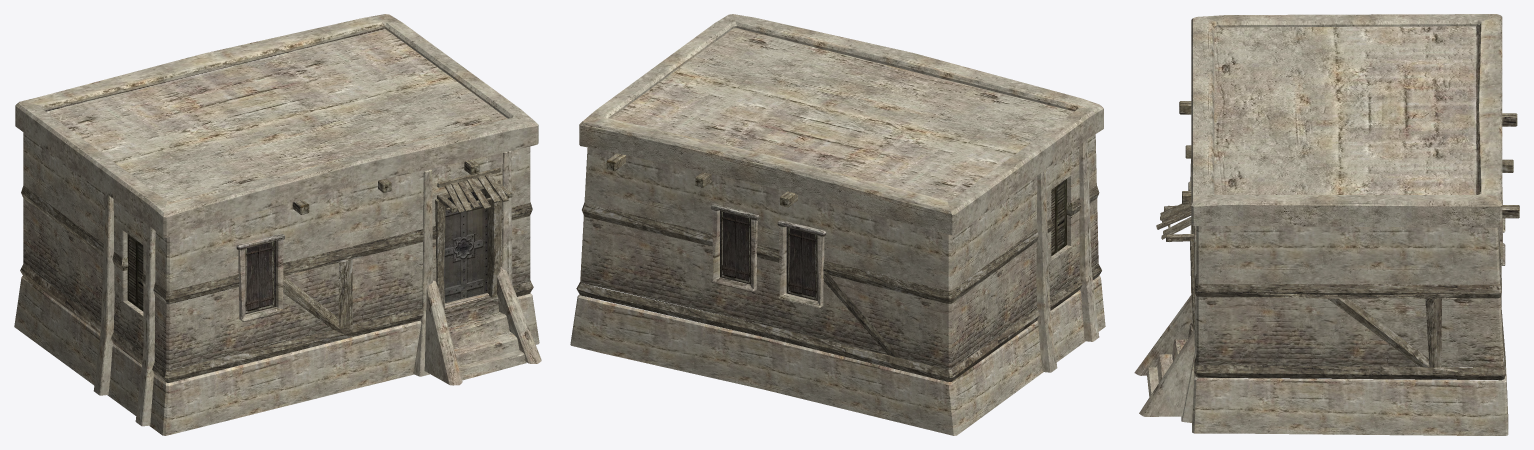
Rendered from TW2_5_HOUSE_01_1-transformed.glb.
3 renders of one model, left to right at view 1: azimuth 30°, elevation 25°; view 2: azimuth 150°, elevation 25°; view 3: azimuth 270°, elevation 25°, orthographic. The views are drawn at different scales.
Visible parts, largest first — view 1: default; view 2: default; view 3: default.
Boxes of the visible parts, box(x1,y1,x2,y2) form: default: box(14, 14, 541, 435); default: box(570, 14, 1105, 435); default: box(1134, 14, 1519, 435).
Bounding box in the file's own units: 8.08 × 4.49 × 6.69.
Materials: 3 (3 with a texture image).
